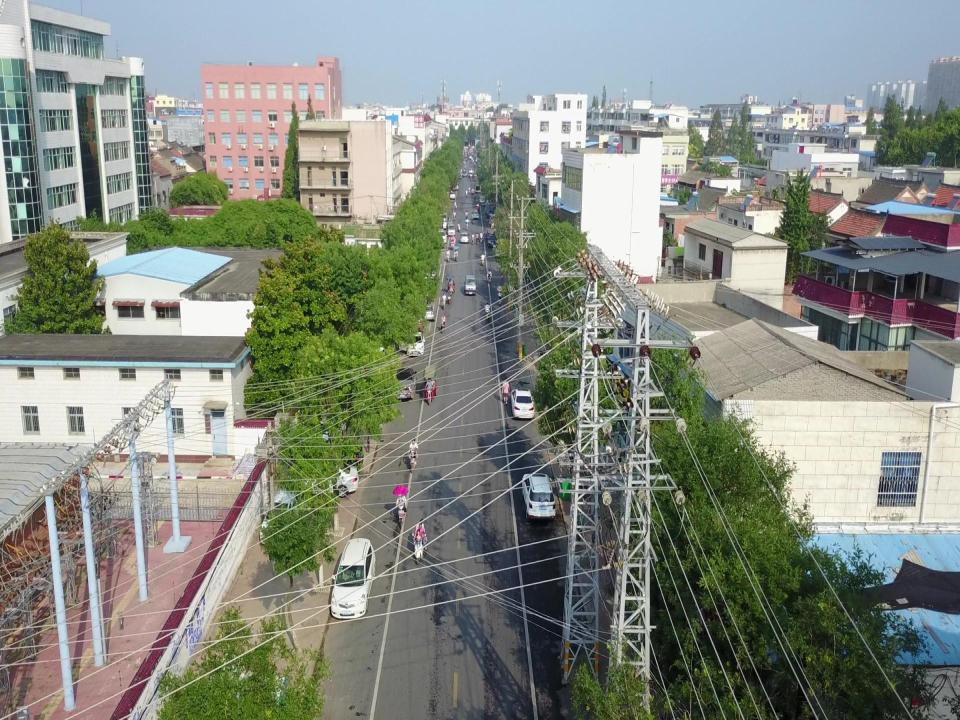car: (328, 537, 376, 622), (259, 488, 295, 548), (519, 470, 555, 522), (310, 459, 360, 495), (509, 388, 534, 419), (396, 367, 416, 401), (407, 330, 423, 355), (463, 275, 476, 295), (421, 305, 435, 320), (438, 212, 446, 230), (486, 233, 496, 247), (459, 231, 468, 242)
van: (438, 229, 446, 245), (447, 223, 455, 237)
